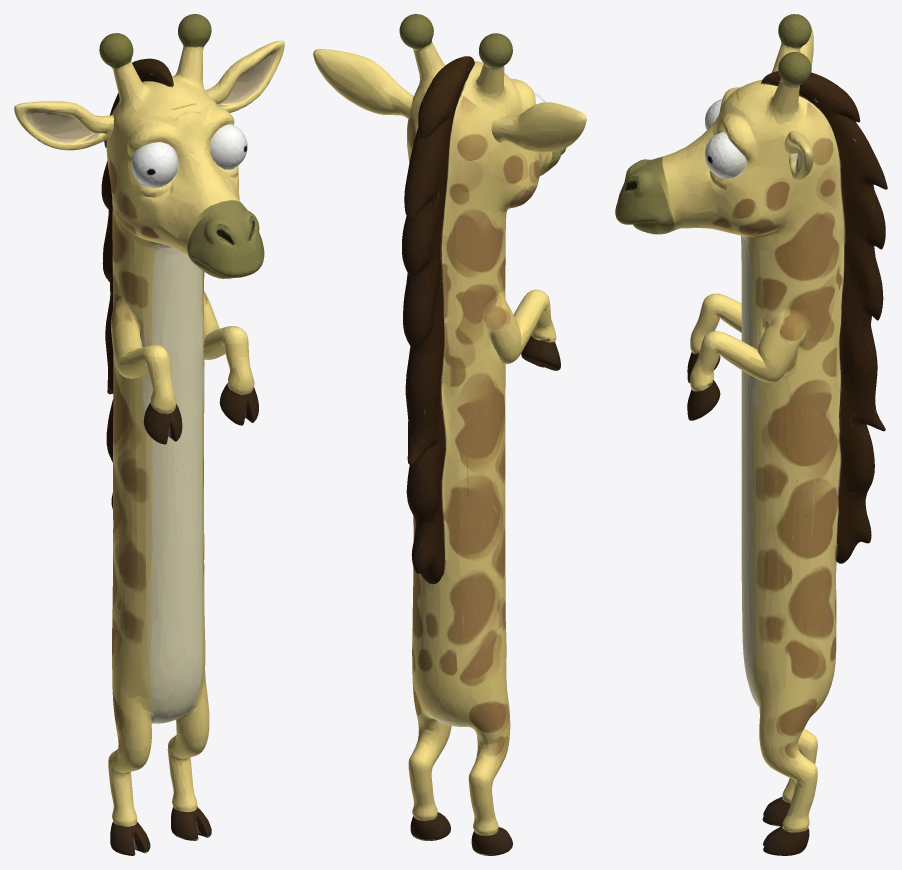
File: reversegiraffe.glb
The picture shows the model from 3 angles, left to right: view 1: azimuth 30°, elevation 25°; view 2: azimuth 150°, elevation 25°; view 3: azimuth 270°, elevation 25°; orthographic projection. The views are drawn at different scales.
Bounding box in the file's own units: 0.6624 × 1.9 × 0.5874.
Materials: 1 (1 with a texture image).
